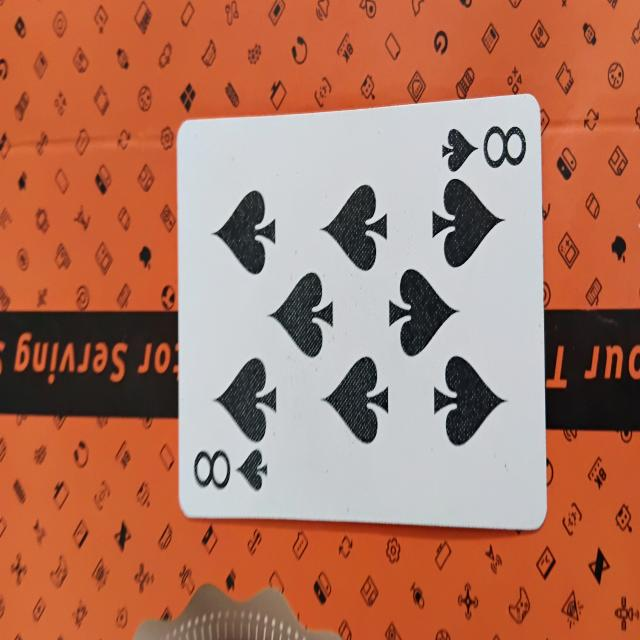8S: (181, 117, 543, 507)
